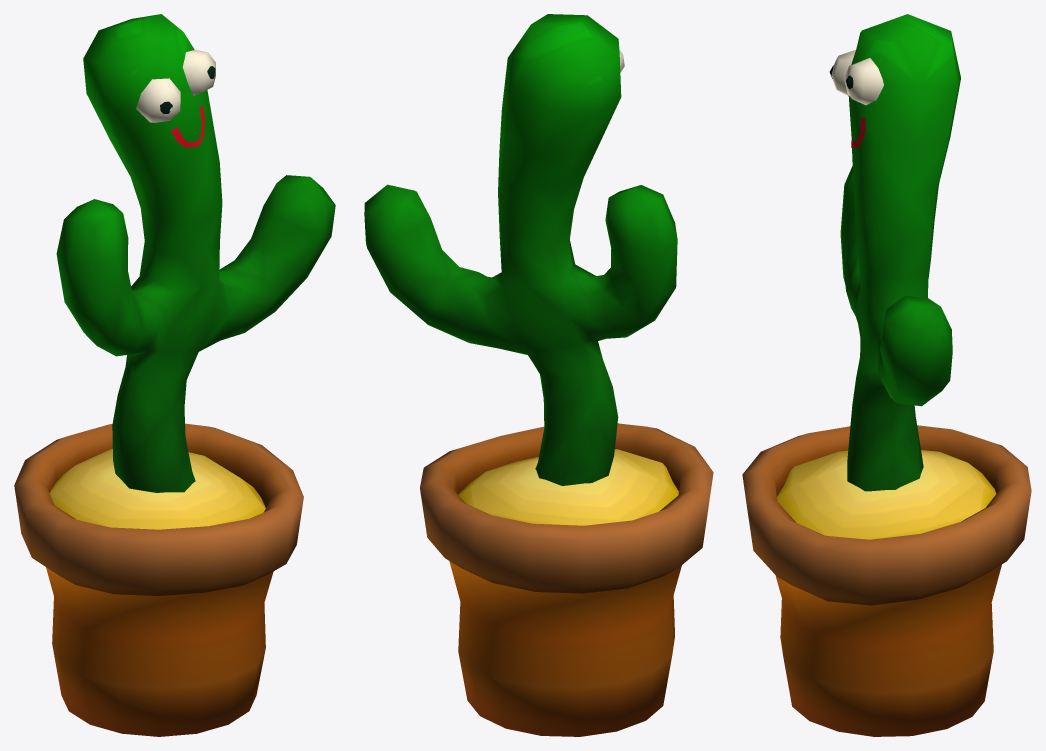
The model's file is Cactus Toy.fbx.
3 views of the same model, side by side, from view 1: azimuth 30°, elevation 25°; view 2: azimuth 150°, elevation 25°; view 3: azimuth 270°, elevation 25° (orthographic).
Parts seen in each view (by area): view 1: Cactus Toy; view 2: Cactus Toy; view 3: Cactus Toy.
Part boxes in pixels (bbox=[...]): Cactus Toy: bbox=[14, 14, 335, 736]; Cactus Toy: bbox=[364, 14, 713, 736]; Cactus Toy: bbox=[742, 14, 1031, 736].
Size of the model in its own units: 15.68 by 32.78 by 12.81.
1 material, 1 textured.
